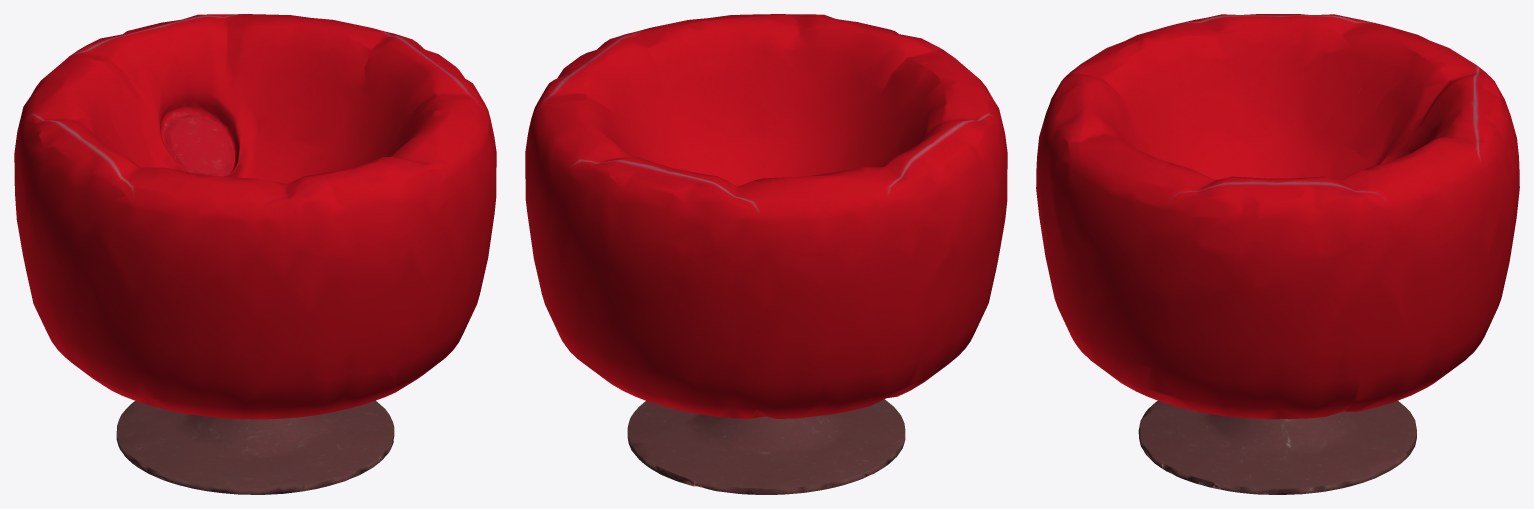
Rendered from Char_RedBloodCell.glb.
3 renders of one model, left to right at view 1: azimuth 30°, elevation 25°; view 2: azimuth 150°, elevation 25°; view 3: azimuth 270°, elevation 25°, orthographic.
Bounding box in the file's own units: 1.9 × 1.46 × 1.9.
Materials: 1 (1 with a texture image).
